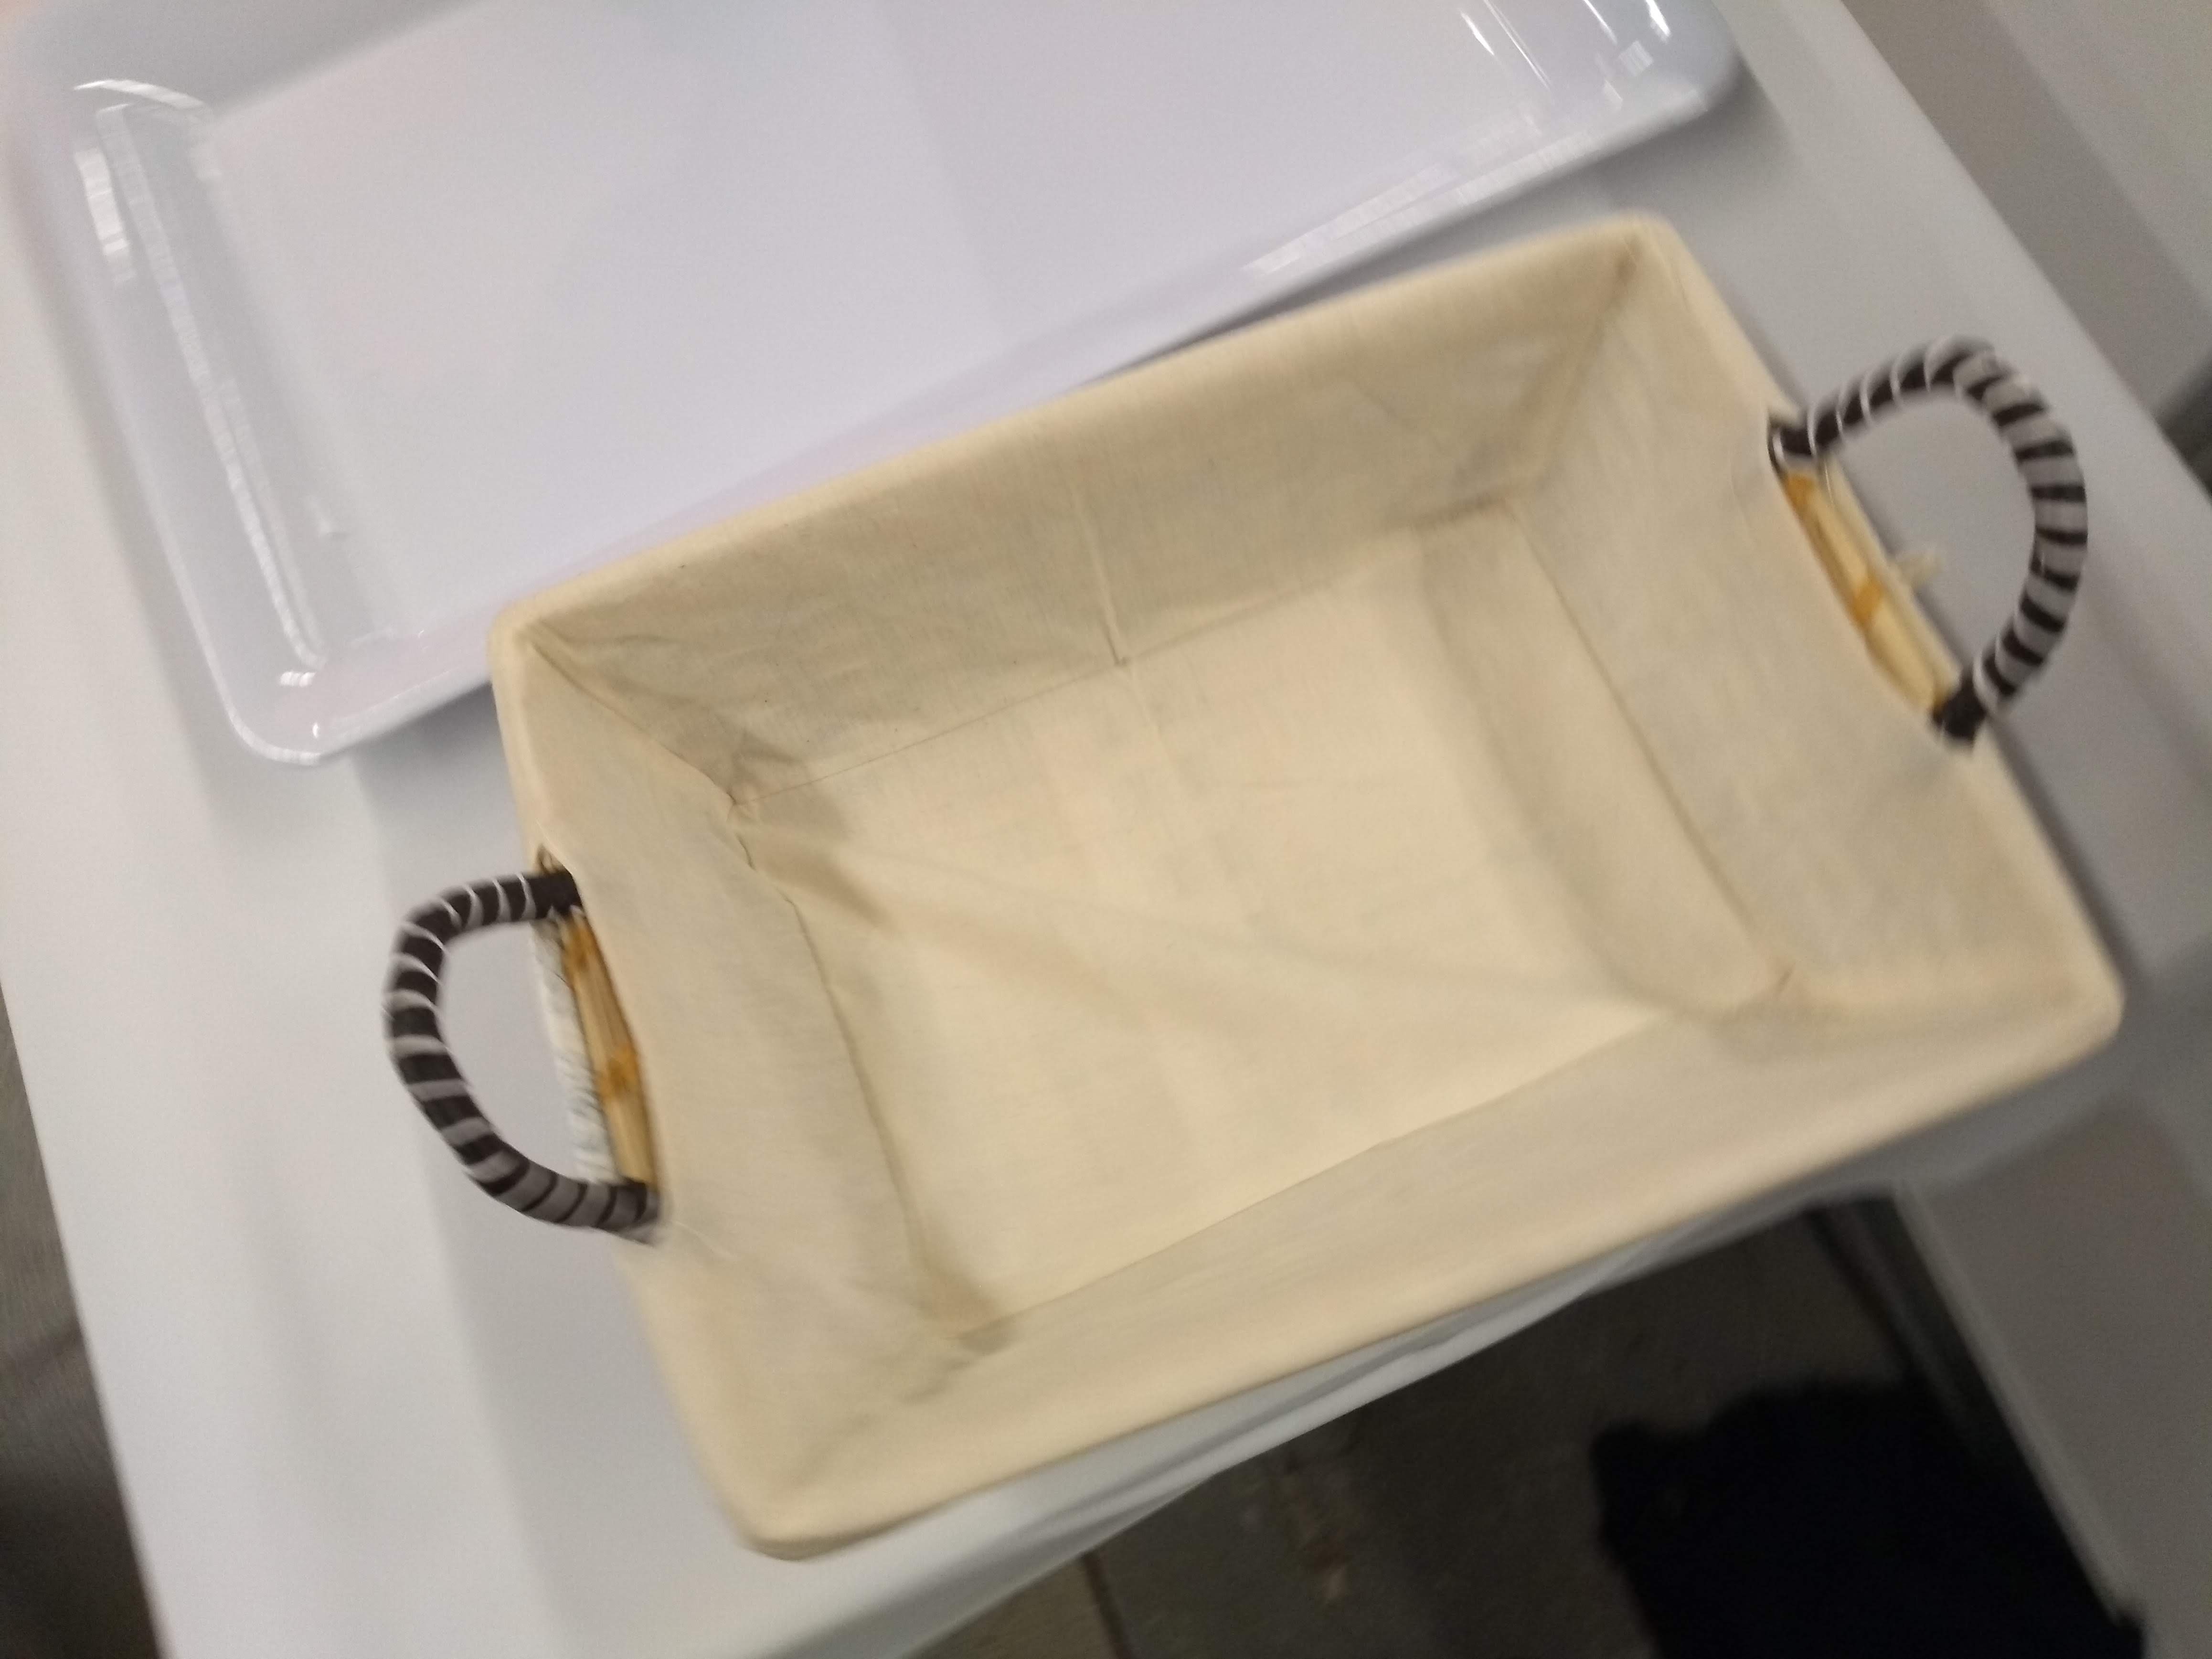basket: (397, 227, 2212, 1561)
tray: (0, 2, 1771, 755)
